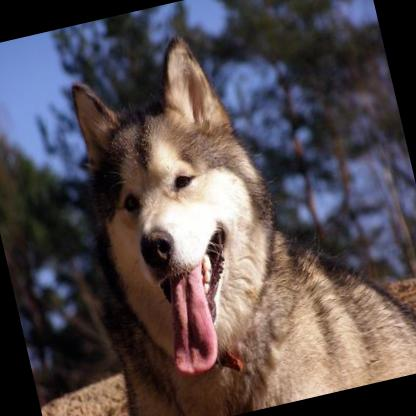malamute: (39, 0, 416, 416)
